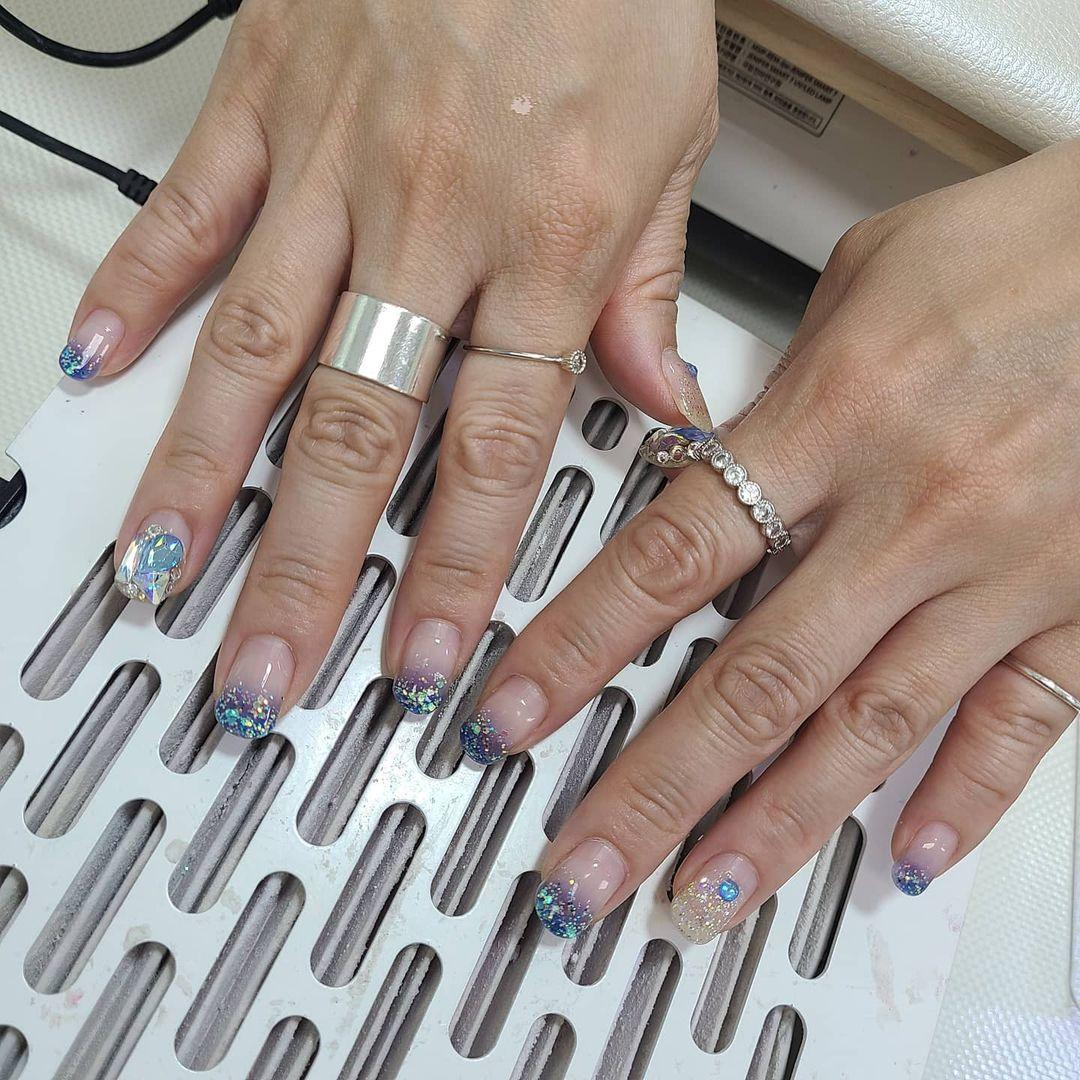nail: (787, 813, 865, 979), (533, 835, 629, 939), (212, 632, 295, 740), (666, 849, 760, 943), (458, 672, 549, 766), (113, 507, 191, 605), (391, 616, 462, 714), (890, 818, 960, 895), (57, 305, 124, 380), (745, 1004, 805, 1078), (581, 397, 627, 450)
